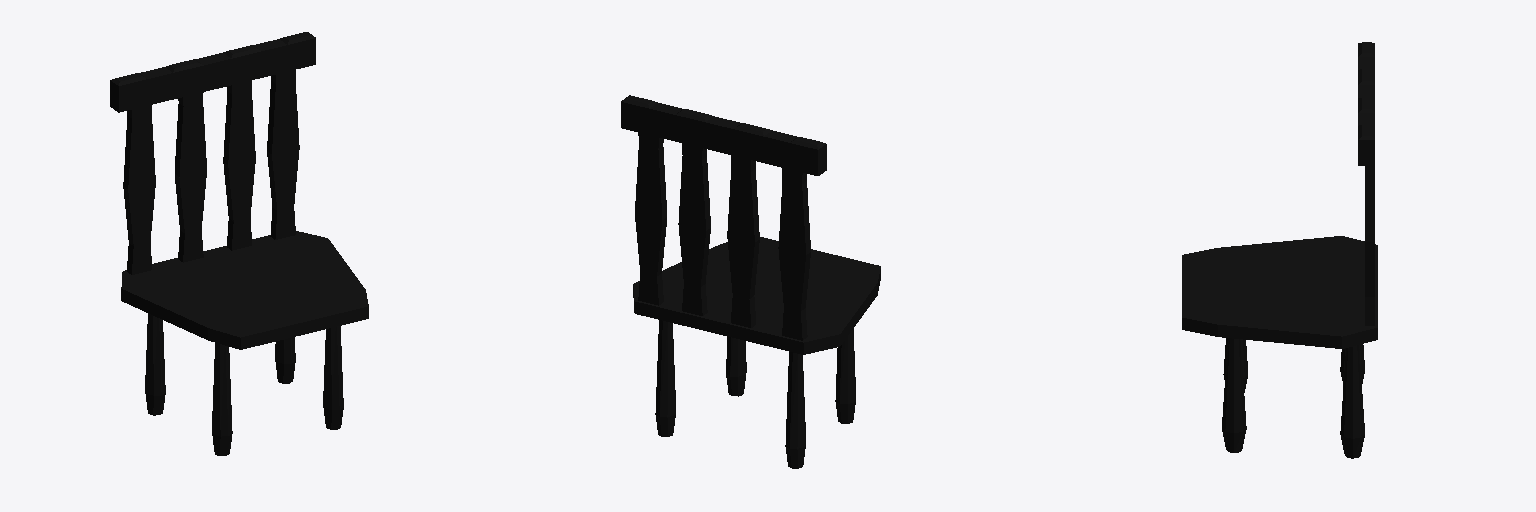
File: chair.obj
3 renders of one model, left to right at view 1: azimuth 30°, elevation 25°; view 2: azimuth 150°, elevation 25°; view 3: azimuth 270°, elevation 25°, orthographic.
Parts seen in each view (by area): view 1: chair_seat, frame2 frame1 frame3 frame4, top1, leg4 leg leg2 leg3; view 2: frame2 frame1 frame3 frame4, chair_seat, top1, leg4 leg leg2 leg3; view 3: chair_seat, leg4 leg leg2 leg3, top1, frame2 frame1 frame3 frame4.
Part boxes in pixels (left/top/right/bottom): chair_seat: left=121, top=231, right=368, bottom=349; frame2 frame1 frame3 frame4: left=123, top=70, right=299, bottom=274; top1: left=110, top=32, right=315, bottom=112; leg4 leg leg2 leg3: left=145, top=313, right=343, bottom=455; frame2 frame1 frame3 frame4: left=635, top=133, right=810, bottom=340; chair_seat: left=633, top=237, right=880, bottom=354; top1: left=621, top=95, right=826, bottom=175; leg4 leg leg2 leg3: left=655, top=320, right=855, bottom=468; chair_seat: left=1182, top=236, right=1377, bottom=348; leg4 leg leg2 leg3: left=1222, top=338, right=1364, bottom=458; top1: left=1358, top=42, right=1374, bottom=165; frame2 frame1 frame3 frame4: left=1365, top=166, right=1374, bottom=325.
Size of the model in its own units: 6.14 by 9.49 by 5.02.